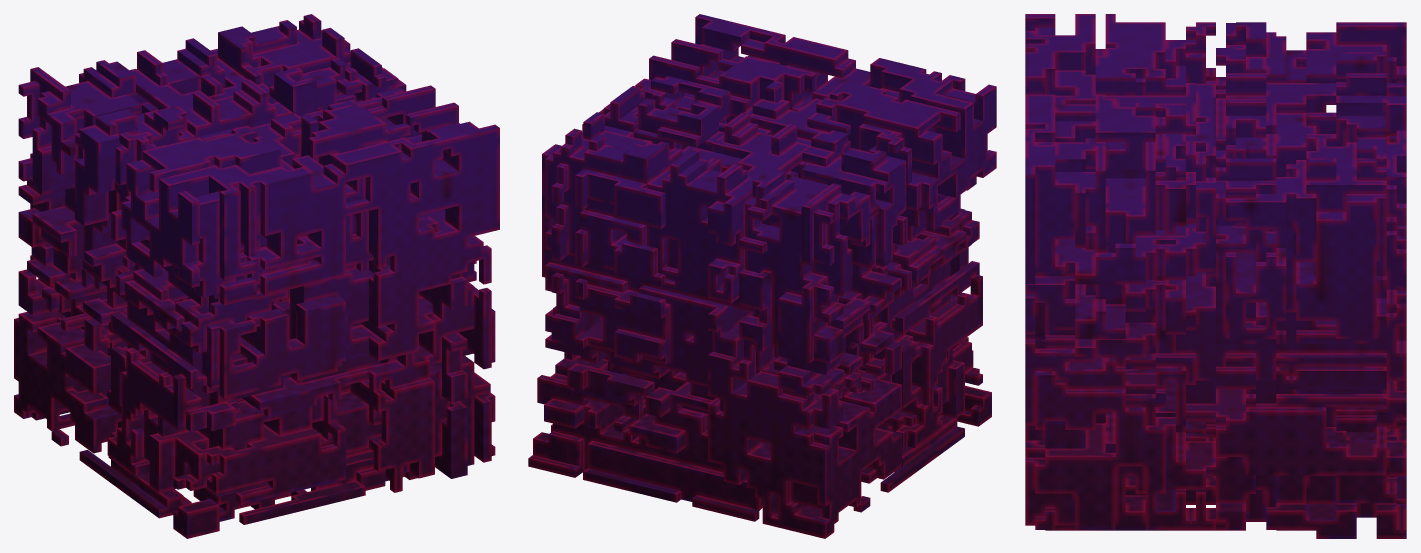
Rendered from cubito dubidu.fbx.
3 renders of one model, left to right at view 1: azimuth 30°, elevation 25°; view 2: azimuth 150°, elevation 25°; view 3: azimuth 270°, elevation 25°, orthographic. The views are drawn at different scales.
Parts seen in each view (by area): view 1: cubito dubidu.001; view 2: cubito dubidu.001; view 3: cubito dubidu.001.
Boxes of the visible parts, x1=… form: cubito dubidu.001: x1=14, y1=14, x2=499, y2=538; cubito dubidu.001: x1=528, y1=14, x2=996, y2=538; cubito dubidu.001: x1=1025, y1=14, x2=1406, y2=538.
Bounding box in the file's own units: 3.8 × 4 × 3.8.
1 material, 1 textured.
